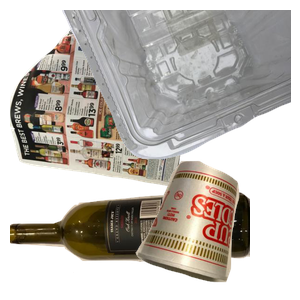glass: (10, 189, 250, 300)
paper: (10, 15, 196, 195)
plastic: (60, 10, 300, 162)
trash: (133, 158, 300, 300)
